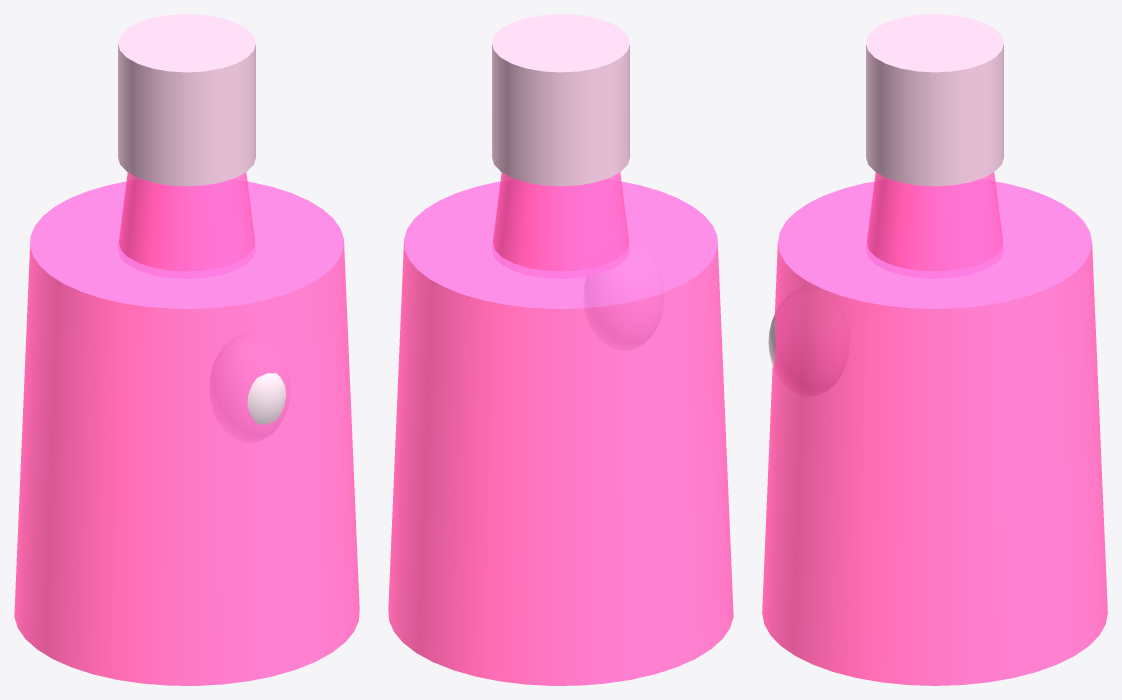
Rendered from cos.glb.
3 views of the same model, side by side, from view 1: azimuth 30°, elevation 25°; view 2: azimuth 150°, elevation 25°; view 3: azimuth 270°, elevation 25° (orthographic).
Size of the model in its own units: 1.1 by 2 by 1.1.
